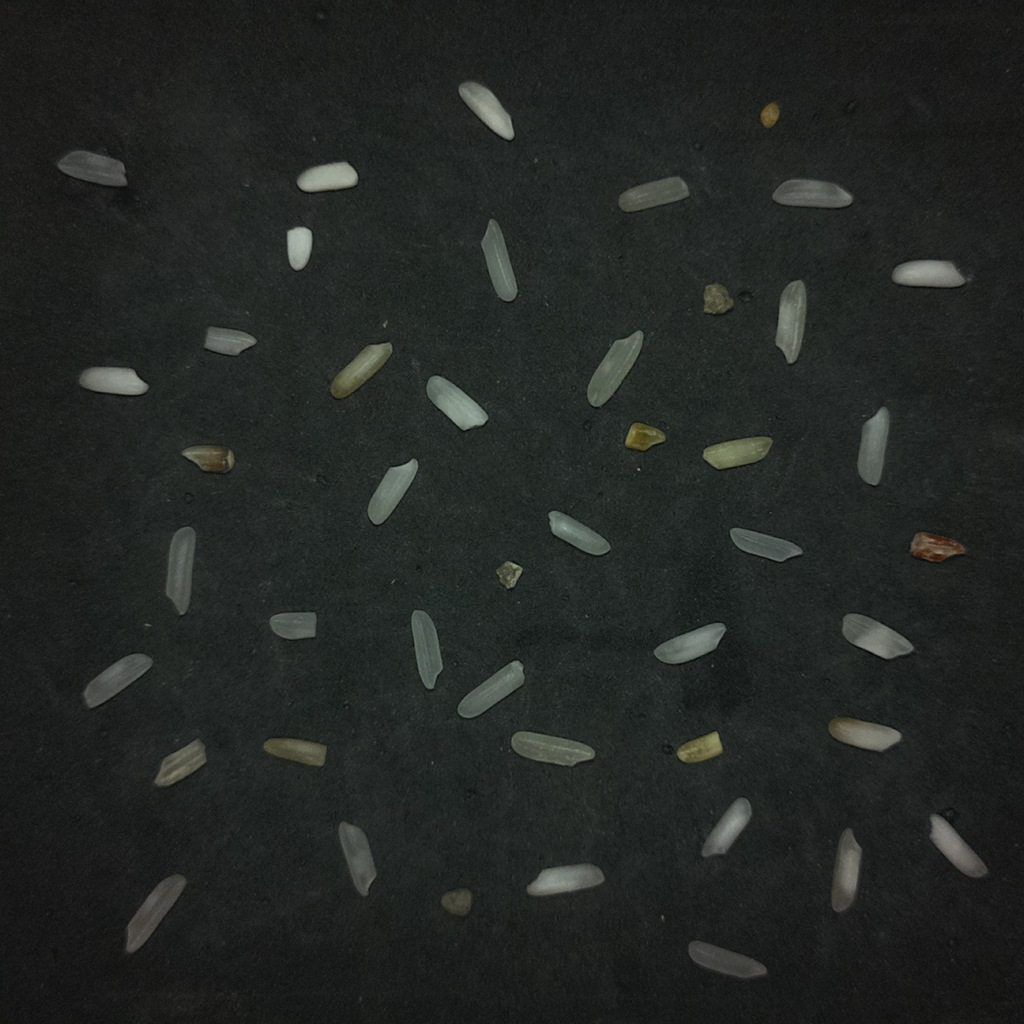broken: (701, 797, 751, 857), (56, 150, 127, 186), (154, 738, 206, 787), (828, 717, 901, 751), (910, 532, 965, 562), (204, 326, 255, 355), (676, 731, 722, 763), (270, 612, 316, 639)
chalky: (930, 813, 987, 877), (426, 375, 488, 430), (458, 81, 514, 140), (527, 863, 604, 896), (891, 260, 965, 288), (79, 367, 148, 395), (296, 161, 357, 192), (286, 226, 312, 270)
damaged: (181, 445, 234, 473)
discolored: (330, 342, 392, 398), (702, 436, 771, 469), (263, 738, 326, 766), (625, 422, 665, 451)
foreign: (703, 283, 734, 314), (440, 888, 473, 917), (496, 561, 523, 589), (760, 101, 780, 128)
whole: (125, 874, 185, 953), (587, 330, 643, 407), (457, 660, 524, 718), (83, 653, 152, 708), (367, 458, 418, 525), (842, 613, 913, 659), (654, 622, 727, 665), (480, 219, 517, 301), (688, 941, 766, 979), (511, 731, 594, 766), (339, 822, 376, 896), (549, 511, 610, 555), (165, 526, 195, 615), (618, 176, 689, 213), (775, 280, 806, 364), (857, 406, 889, 485), (831, 828, 861, 912), (411, 610, 442, 689), (729, 528, 802, 561), (772, 179, 852, 208)
